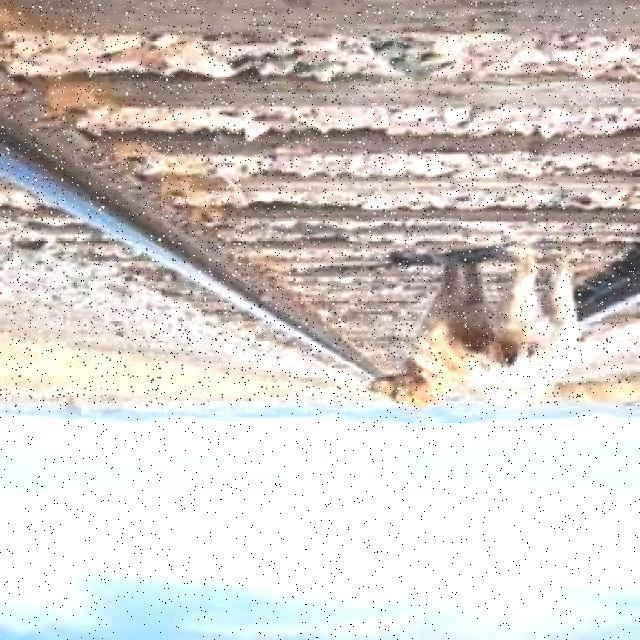danger: (357, 248, 618, 403)
rail: (0, 1, 635, 406)
